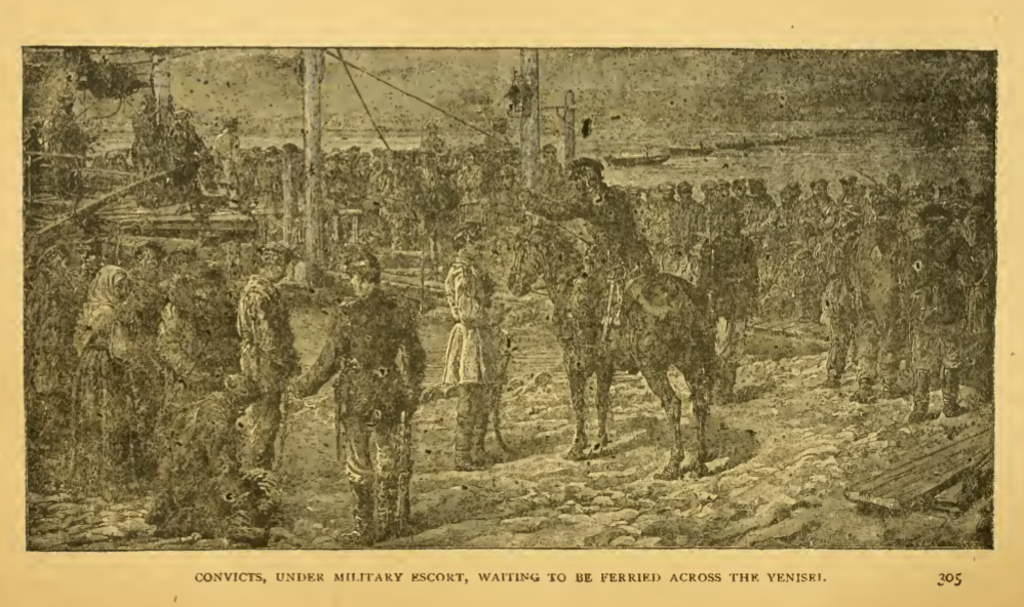Animal: (504, 212, 715, 481)
